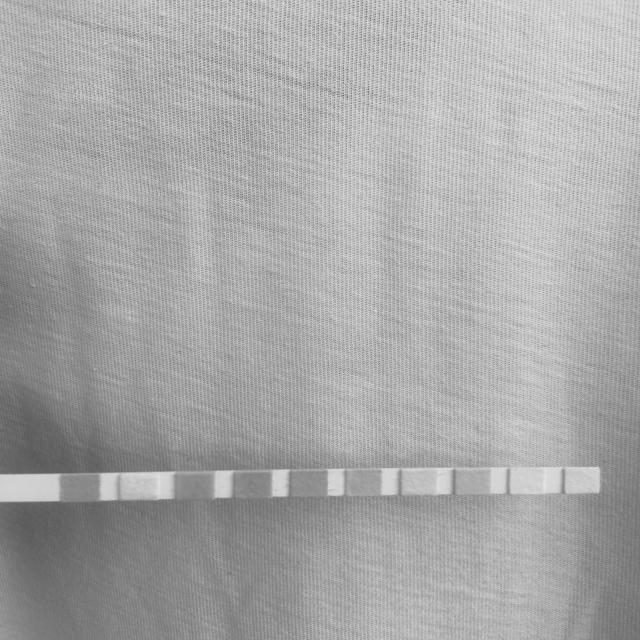Bilirubin: (121, 472, 158, 500)
Blood: (291, 470, 327, 497)
Glucose: (60, 474, 100, 502)
Ketone: (178, 472, 214, 498)
Leukocytes: (566, 467, 599, 493)
Nitrite: (510, 468, 543, 494)
Protein: (401, 468, 437, 494)
SpGravity: (235, 471, 272, 498)
Urobilinogen: (456, 468, 490, 494)
background: (0, 0, 640, 640)
pH: (346, 469, 382, 496)
strip: (6, 468, 600, 503)
